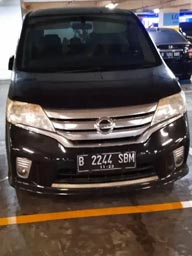plat: (74, 152, 133, 165)
